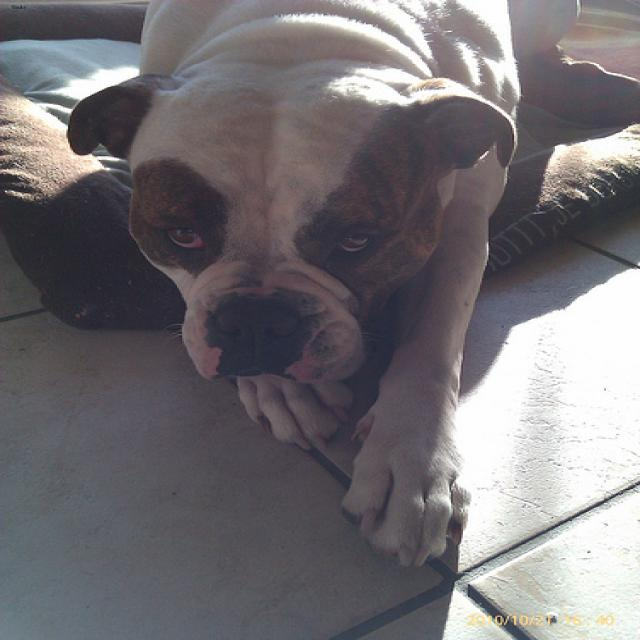dog-american_bulldog: (48, 1, 637, 581)
